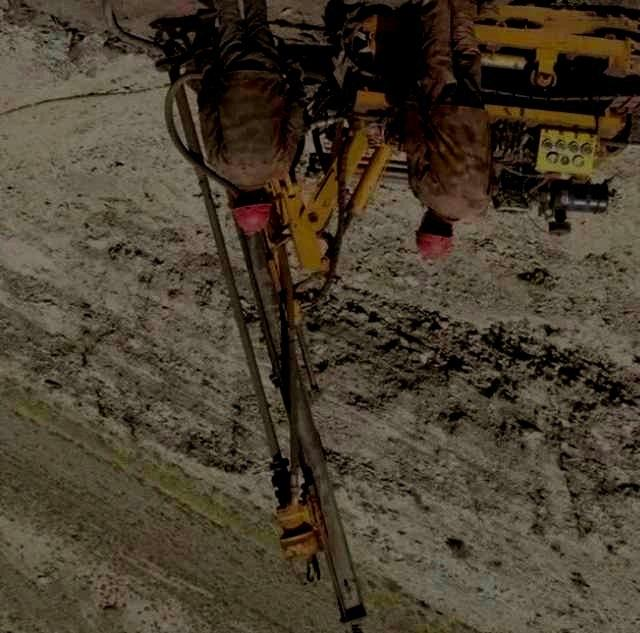helmet: (230, 187, 274, 235), (414, 209, 455, 258)
